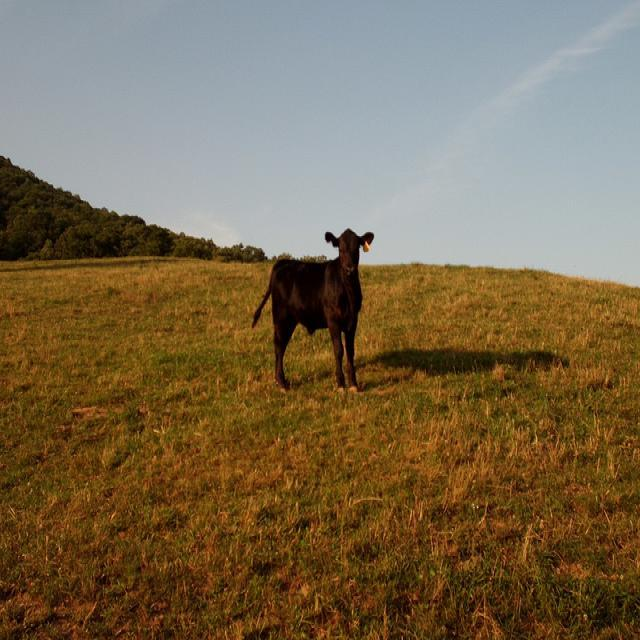cow: (251, 228, 372, 392)
